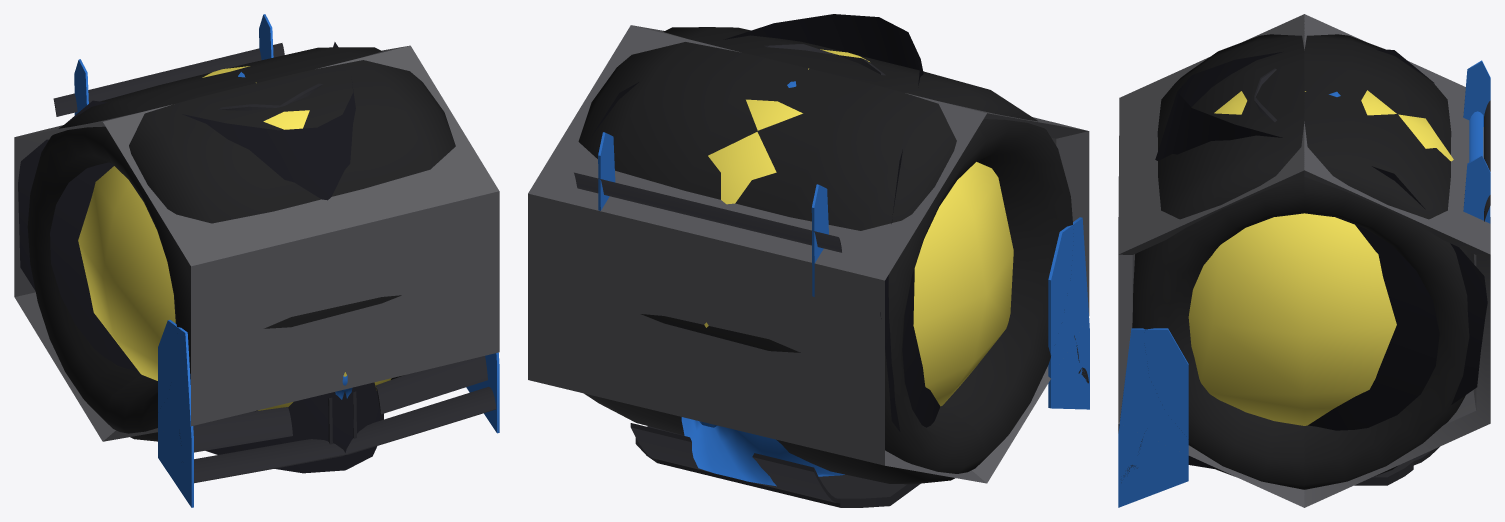
3 renders of one model, left to right at view 1: azimuth 30°, elevation 25°; view 2: azimuth 150°, elevation 25°; view 3: azimuth 270°, elevation 25°, orthographic. The views are drawn at different scales.
Visible parts, largest first — view 1: rim_FR, tyre_FR, visor, carbon, tyre_FL, helmet, tyre_RR, body, tyre_RL, rim_RR; view 2: rim_RR, tyre_RR, tyre_RL, helmet, body, rim_RL, carbon, tyre_FR, visor, tyre_FL, rim_FR; view 3: helmet, tyre_RL, tyre_FL, visor, body, tyre_RR, rim_FR, tyre_FR, rim_RR, rim_FL, rim_RL, carbon.
Boxes of the visible parts, x1,y1,x2,y2 form: rim_FR: (14, 45, 499, 441); tyre_FR: (27, 74, 381, 441); visor: (18, 42, 383, 473); carbon: (53, 43, 496, 483); tyre_FL: (203, 60, 455, 379); helmet: (78, 66, 391, 410); tyre_RR: (32, 63, 292, 427); body: (74, 14, 499, 507); tyre_RL: (198, 47, 382, 95); rim_RR: (17, 45, 409, 441); rim_RR: (528, 25, 1089, 483); tyre_RR: (664, 58, 1072, 484); tyre_RL: (578, 42, 864, 435); helmet: (704, 49, 1013, 406); body: (598, 81, 1089, 486); rim_RL: (635, 173, 942, 463); carbon: (574, 44, 1088, 507); tyre_FR: (767, 45, 1067, 466); visor: (590, 14, 940, 431); tyre_FL: (663, 27, 817, 58); rim_FR: (634, 25, 1086, 483); helmet: (1188, 90, 1453, 425); tyre_RL: (1145, 85, 1474, 489); tyre_FL: (1132, 85, 1464, 489); visor: (1155, 49, 1487, 469); body: (1118, 60, 1490, 507); tyre_RR: (1304, 34, 1451, 176); rim_FR: (1118, 14, 1304, 254); tyre_FR: (1157, 34, 1304, 176); rim_RR: (1304, 14, 1490, 254); rim_FL: (1304, 170, 1490, 507); rim_RL: (1118, 170, 1304, 507); carbon: (1118, 68, 1490, 485).
Bounding box in the file's own units: 65536 × 65534 × 65537.
